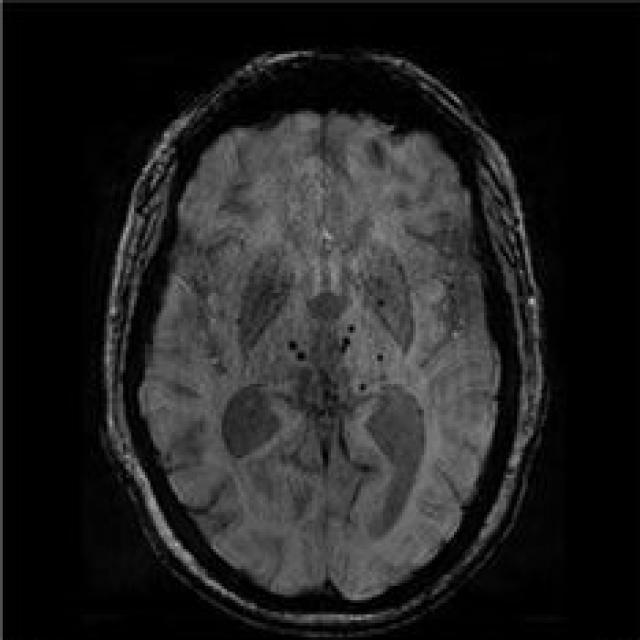No_Tumor: (103, 50, 547, 636)
